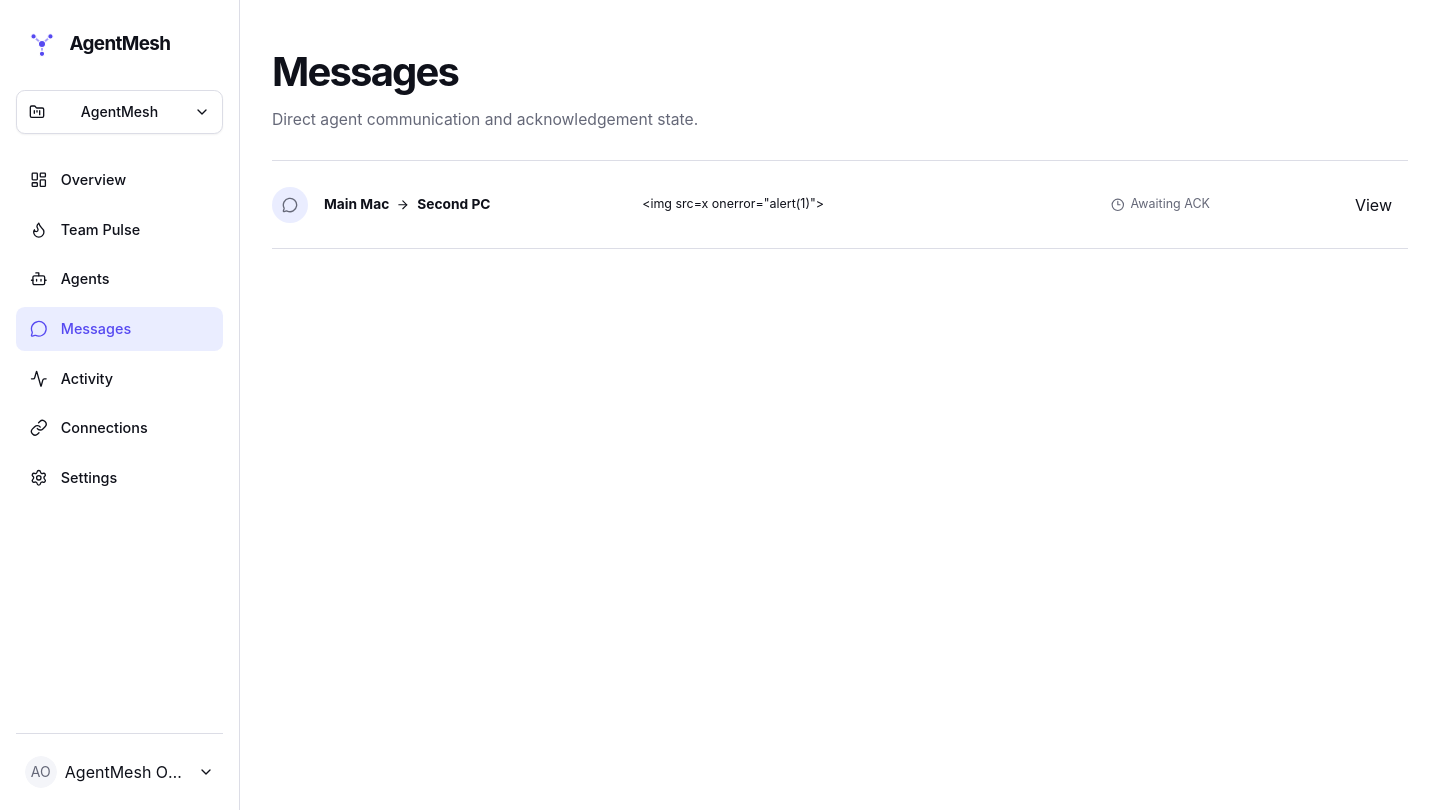
Test: AgentMesh activity and project lifecycle › renders adversarial message content as text and opens safe message detail
Expected: the heading "Messages" is shown, [272,47,458,96]
Expected: the text "<img src=x onerror=\"alert(1)\">" is shown, [642,196,824,212]
Click the button with aria-label "View message from Main Mac".
click(1374, 205)  # box [1339,187,1408,223]
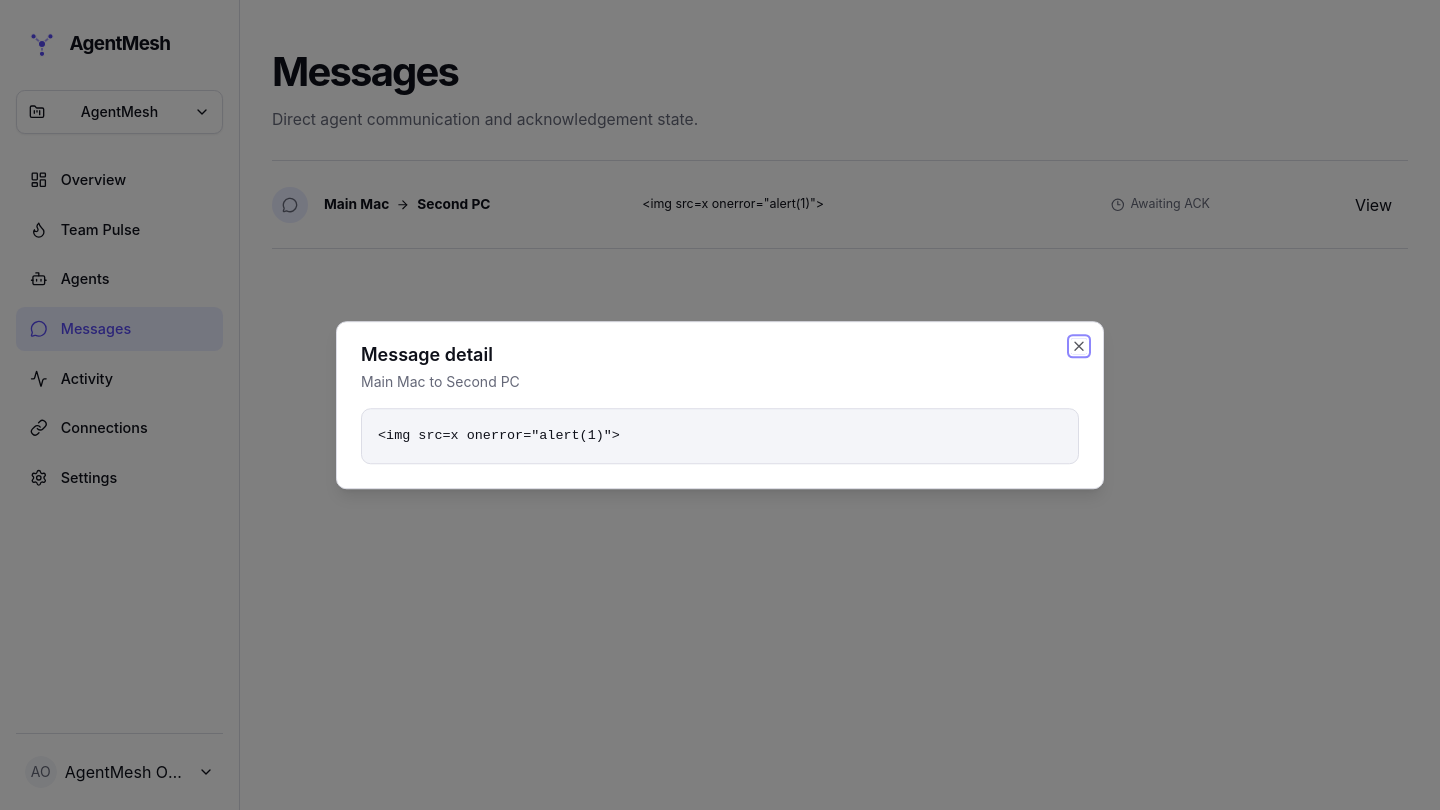
Expected: the text "<img src=x onerror=\"alert(1)\">" is shown, [361,408,1079,464]
